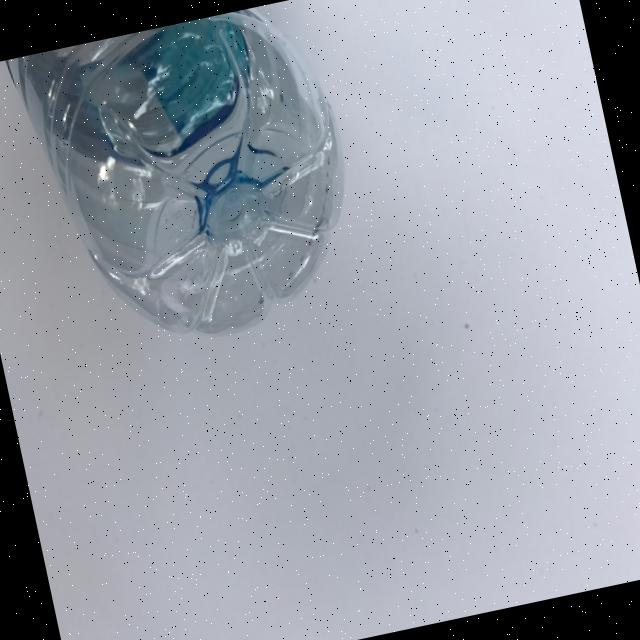plastic: (4, 0, 375, 367)
